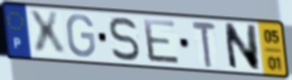E: (141, 17, 183, 67)
G: (65, 13, 98, 59)
N: (222, 21, 262, 72)
S: (108, 15, 142, 63)
T: (190, 20, 219, 70)
X: (26, 9, 68, 57)
